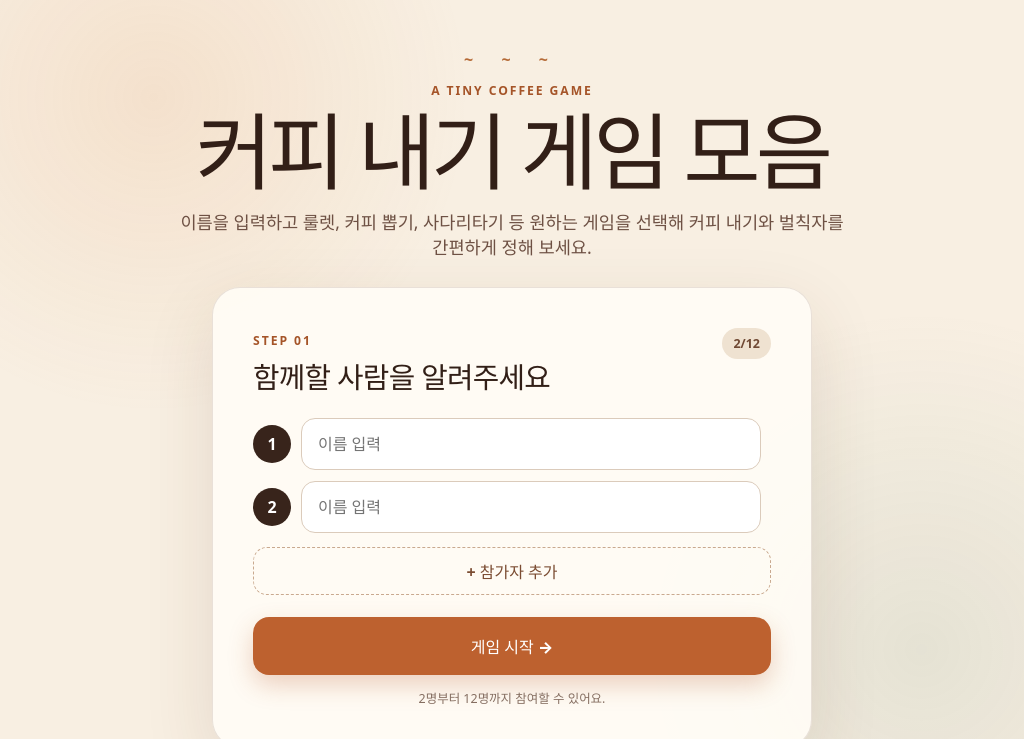
App › opens 커피 뽑기, exposes a working game control, and updates its URL
Type "Mina" into the 1st field with placeholder "이름 입력".
click(531, 444); type("Mina")  # box top-left (301, 418), bottom-right (761, 470)
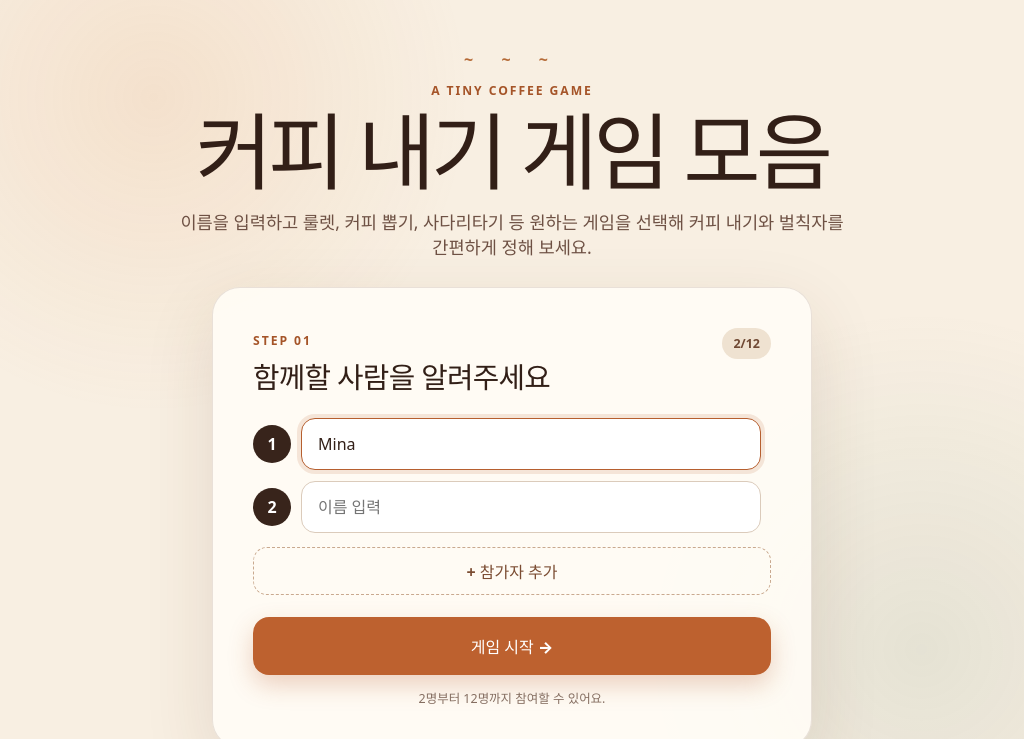
Type "Joon" into the field with placeholder "이름 입력".
click(531, 507); type("Joon")  # box top-left (301, 481), bottom-right (761, 533)
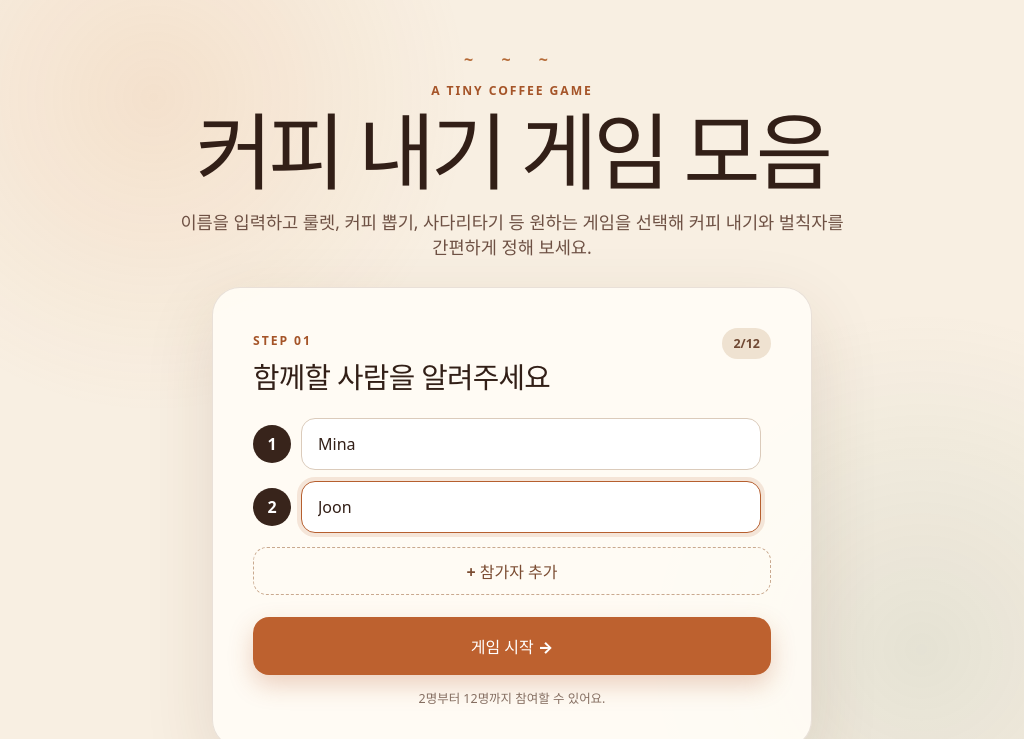
Click the button "게임 시작 →".
click(512, 646)  # box top-left (253, 617), bottom-right (771, 675)
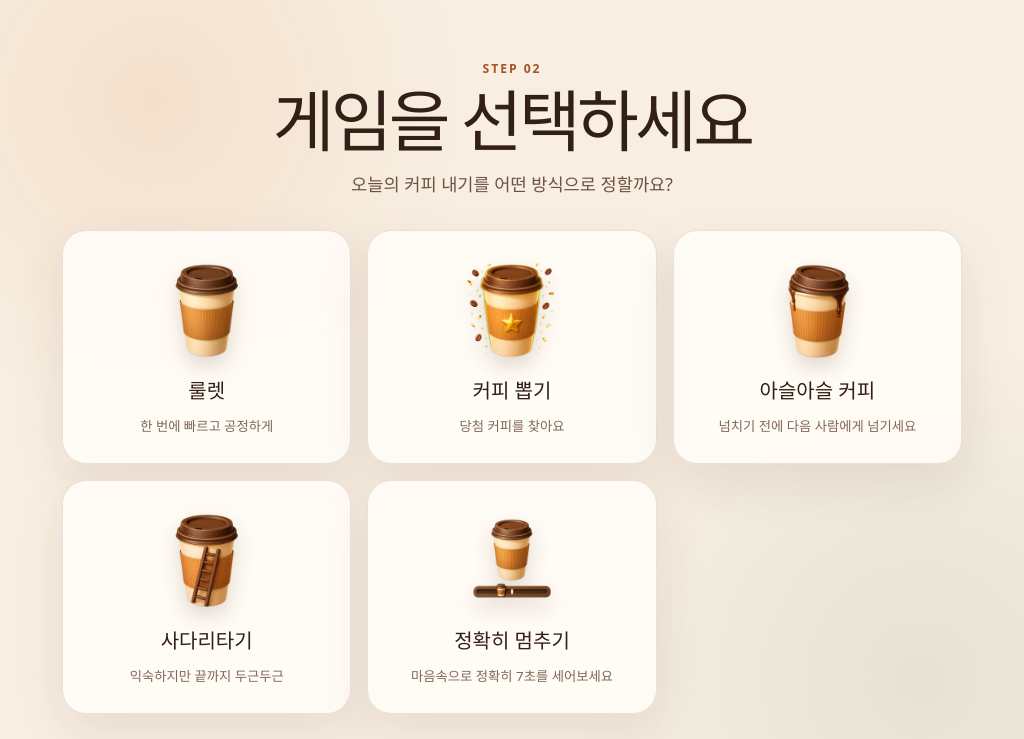
Click the button "커피 뽑기 당첨 커피를 찾아요".
click(512, 347)  # box top-left (367, 230), bottom-right (657, 464)
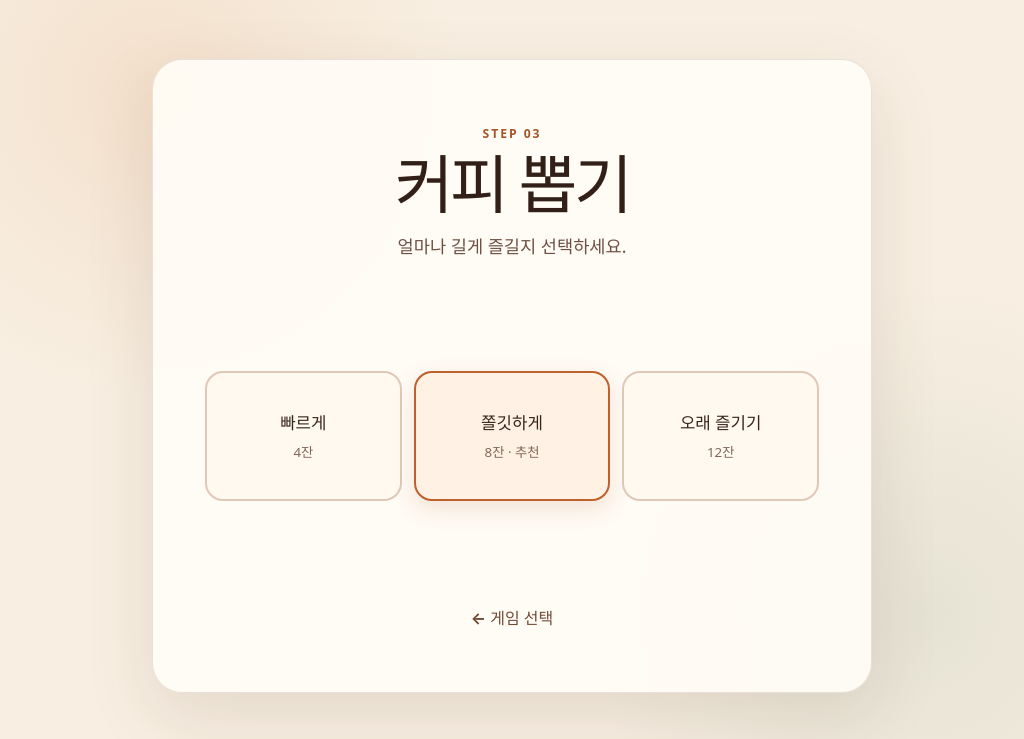
Expected: the heading "커피 뽑기" is shown, top-left (395, 140), bottom-right (629, 227)
Now the button "쫄깃하게 8잔 · 추천" is shown, box top-left (414, 370), bottom-right (610, 500)
